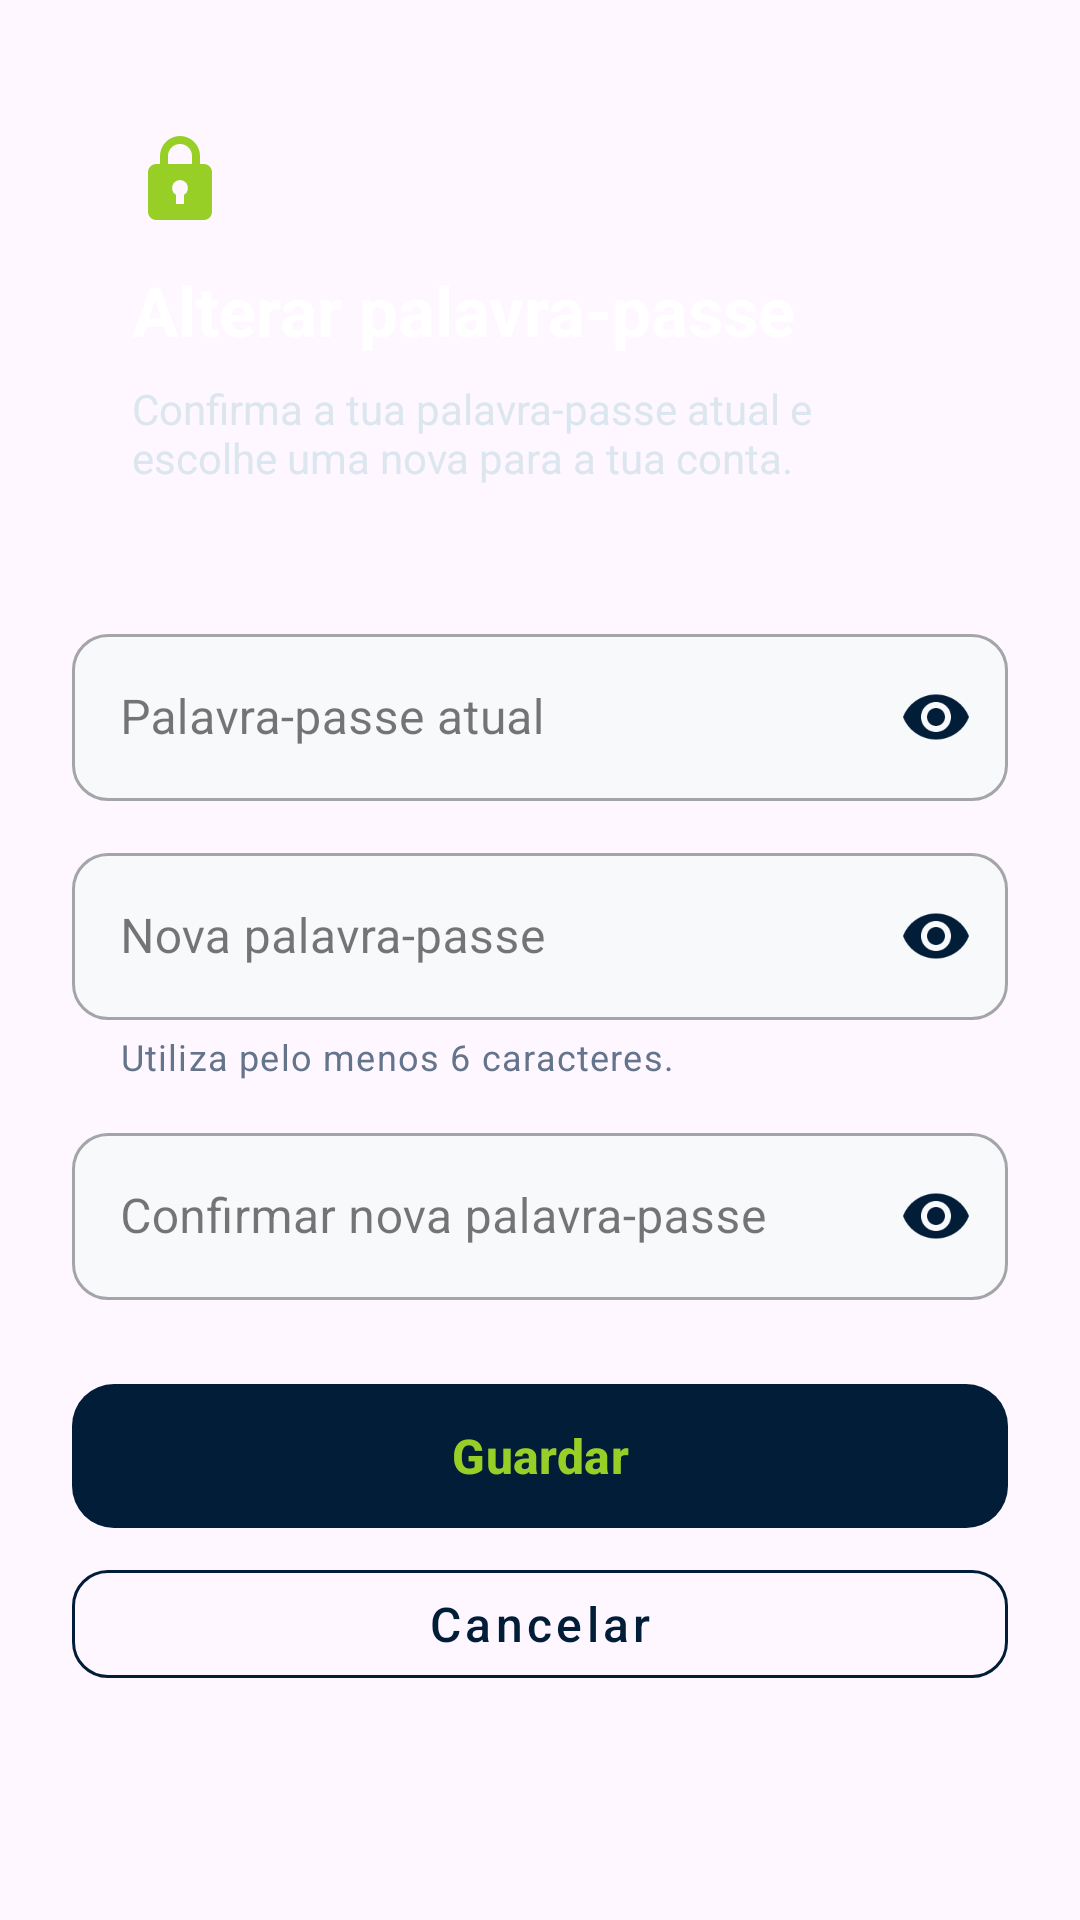

Named icons in this screenshot (1080 x 1920) and their bounding boxes, (x1,y1,x2,y2):
lock: (148,136,212,220)
